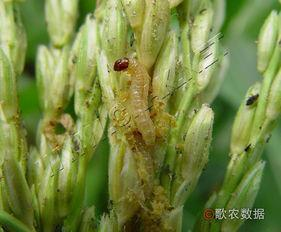caterpillars: (104, 51, 179, 155)
